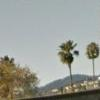Palm tree: (54, 28, 99, 90)
